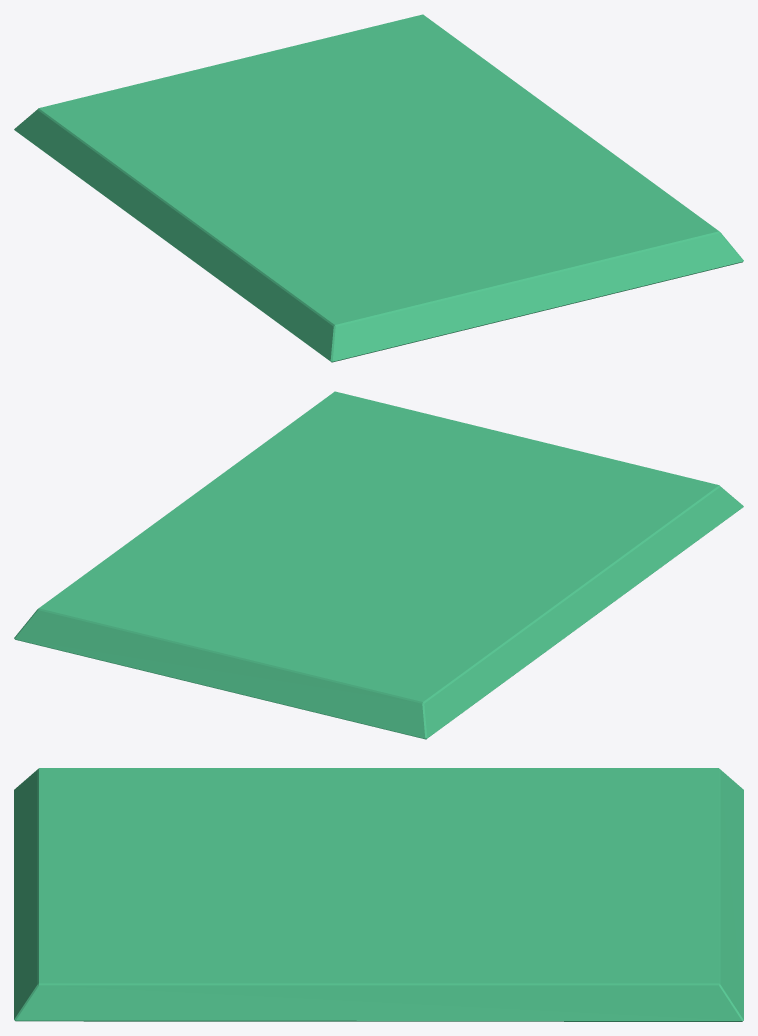
File: gm_curb_02.dae
3 views of the same model, one above another, from view 1: azimuth 30°, elevation 25°; view 2: azimuth 150°, elevation 25°; view 3: azimuth 270°, elevation 25° (orthographic). The views are drawn at different scales.
Parts seen in each view (by area): view 1: Colmesh-1; view 2: Colmesh-1; view 3: Colmesh-1.
Part boxes in pixels (box(x1,y1,x2,y2)): Colmesh-1: box(14, 14, 743, 362); Colmesh-1: box(14, 391, 743, 739); Colmesh-1: box(14, 768, 743, 1021).
Size of the model in its own units: 6.42 by 8.55 by 0.4052.
